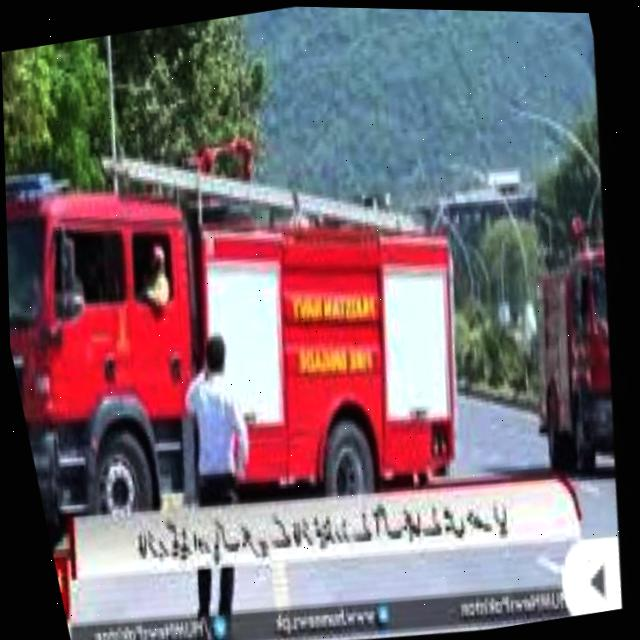emergency: (2, 94, 500, 552), (495, 204, 640, 480)
